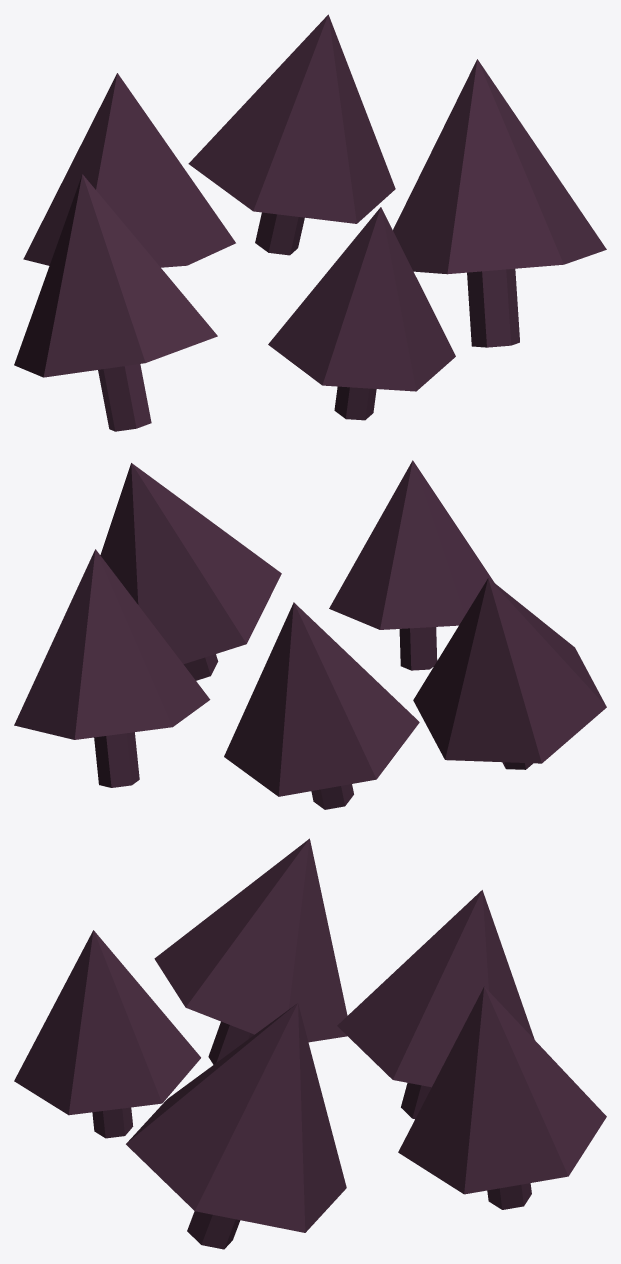
The model's file is HellTrees.fbx.
The picture shows the model from 3 angles, top to bottom: view 1: azimuth 30°, elevation 25°; view 2: azimuth 150°, elevation 25°; view 3: azimuth 270°, elevation 25°; orthographic projection. The views are drawn at different scales.
Parts seen in each view (by area): view 1: HellTrees; view 2: HellTrees; view 3: HellTrees.
Boxes of the visible parts, box(x1,y1,x2,y2) form: HellTrees: box(14, 14, 606, 431); HellTrees: box(14, 460, 606, 809); HellTrees: box(14, 838, 606, 1249).
Size of the model in its own units: 0.8824 by 0.3906 by 0.8292.
